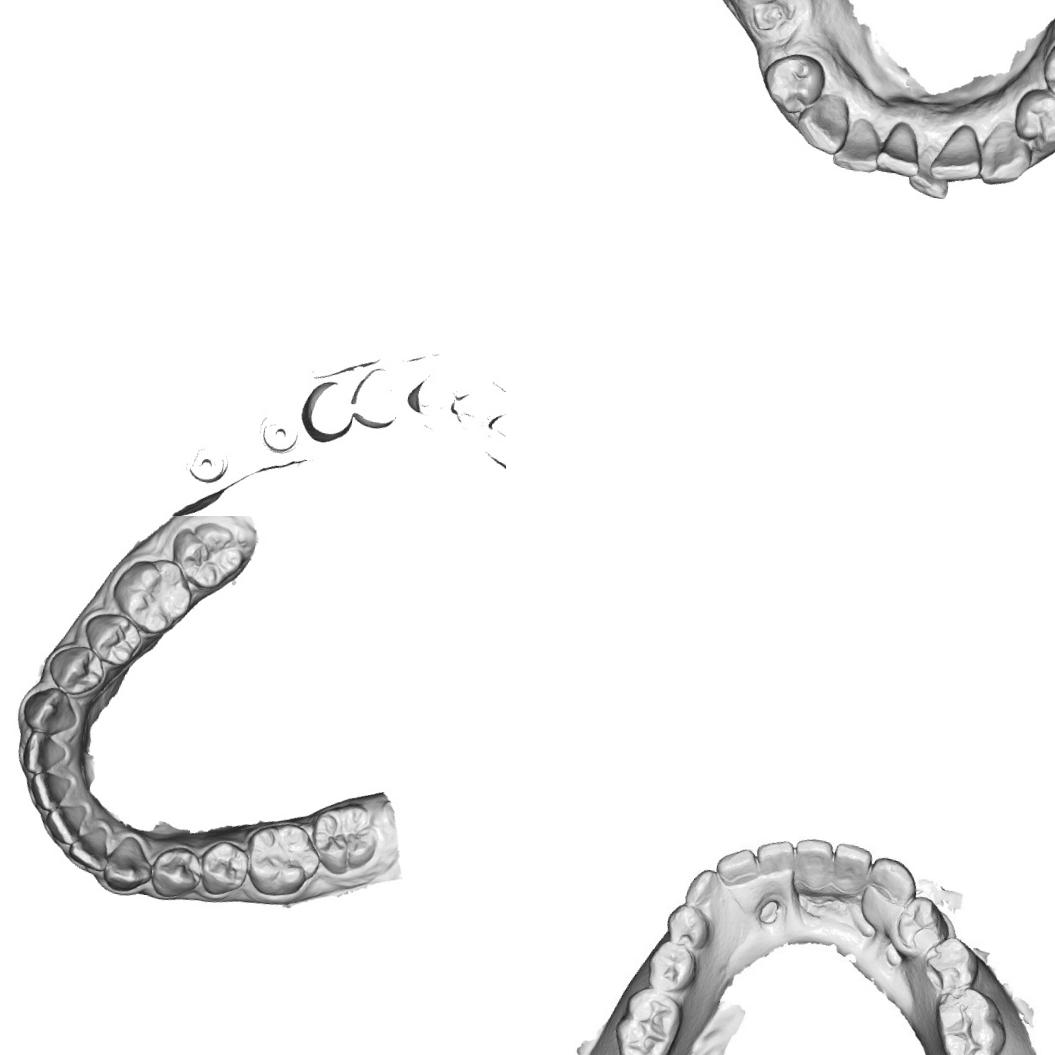canine: (975, 118, 1038, 192), (790, 88, 852, 158), (20, 683, 82, 740), (100, 832, 156, 895), (865, 854, 919, 916), (683, 869, 739, 925)
incisor: (784, 832, 844, 914), (928, 120, 990, 188), (748, 836, 802, 910), (825, 838, 877, 913), (712, 843, 770, 907), (828, 111, 885, 175), (872, 118, 926, 179), (904, 142, 955, 204), (18, 728, 70, 780), (66, 822, 112, 873), (42, 800, 88, 848), (26, 769, 73, 814)
molar: (107, 552, 197, 639), (238, 817, 325, 902), (166, 517, 250, 595), (306, 797, 382, 880), (927, 983, 1009, 1055), (608, 981, 685, 1055)
premolar: (756, 47, 830, 121), (80, 608, 146, 670), (917, 936, 981, 998), (640, 936, 702, 999), (44, 641, 109, 699), (148, 842, 206, 904), (1009, 83, 1055, 157), (197, 838, 251, 900), (894, 896, 946, 958), (658, 898, 710, 953), (1037, 31, 1055, 111)
